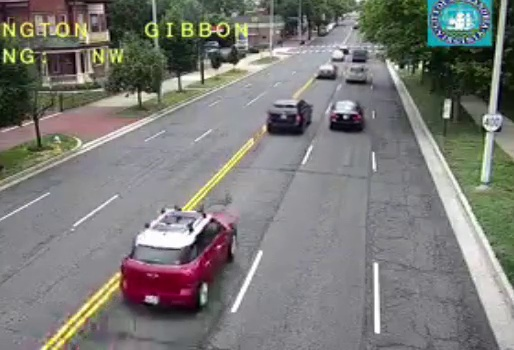car: (120, 209, 237, 310), (267, 99, 311, 134), (330, 101, 362, 127), (346, 66, 366, 82), (317, 64, 336, 79)
